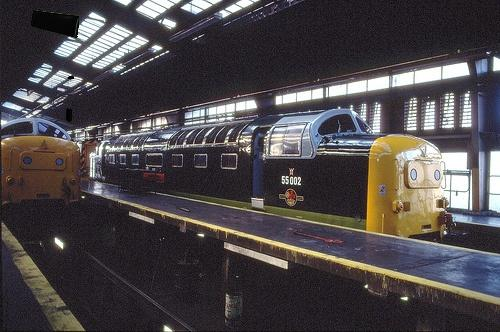tampered: (32, 11, 79, 122)
